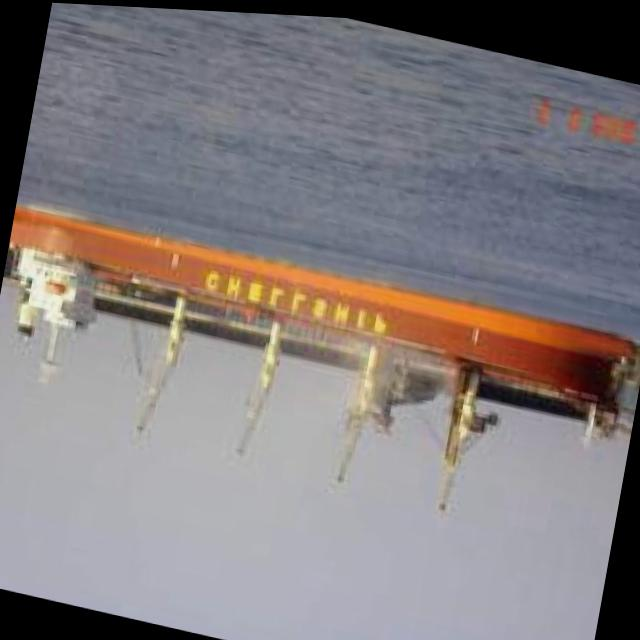ship2: (6, 204, 636, 515)
